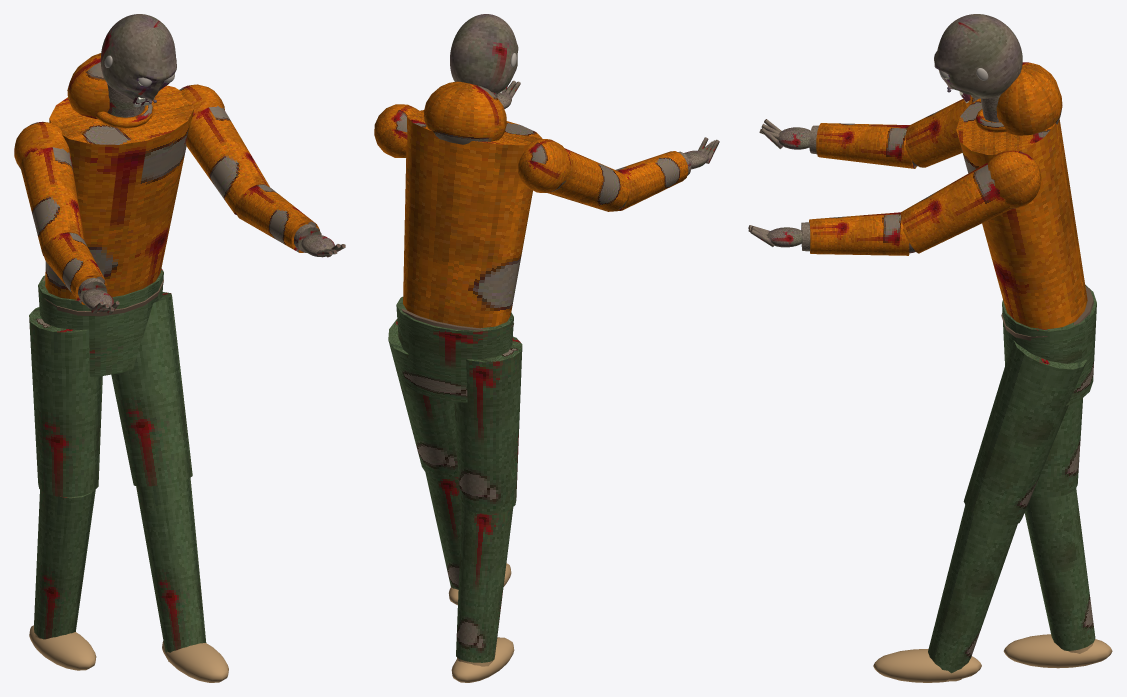
Rendered from Zombie_027.glb.
3 renders of one model, left to right at view 1: azimuth 30°, elevation 25°; view 2: azimuth 150°, elevation 25°; view 3: azimuth 270°, elevation 25°, orthographic. The views are drawn at different scales.
Parts seen in each view (by area): view 1: Zombie_027, object 18, object 12, object 4, object 13; view 2: Zombie_027, object 18, object 4; view 3: Zombie_027, object 18, object 12, object 4, object 5, object 13.
Boxes of the visible parts, left/top/right/bottom form: Zombie_027: left=14, top=53, right=269, bottom=682; object 18: left=100, top=14, right=176, bottom=101; object 12: left=235, top=184, right=319, bottom=252; object 4: left=42, top=232, right=107, bottom=305; object 13: left=301, top=234, right=334, bottom=257; Zombie_027: left=374, top=81, right=629, bottom=682; object 18: left=450, top=14, right=518, bottom=93; object 4: left=616, top=151, right=688, bottom=211; Zombie_027: left=873, top=62, right=1112, bottom=682; object 18: left=934, top=14, right=1022, bottom=98; object 12: left=809, top=212, right=909, bottom=255; object 4: left=816, top=123, right=916, bottom=168; object 5: left=777, top=127, right=810, bottom=149; object 13: left=767, top=227, right=802, bottom=247.
Size of the model in its own units: 0.735 by 1.91 by 0.9454.
Materials: 15 (5 with a texture image).
